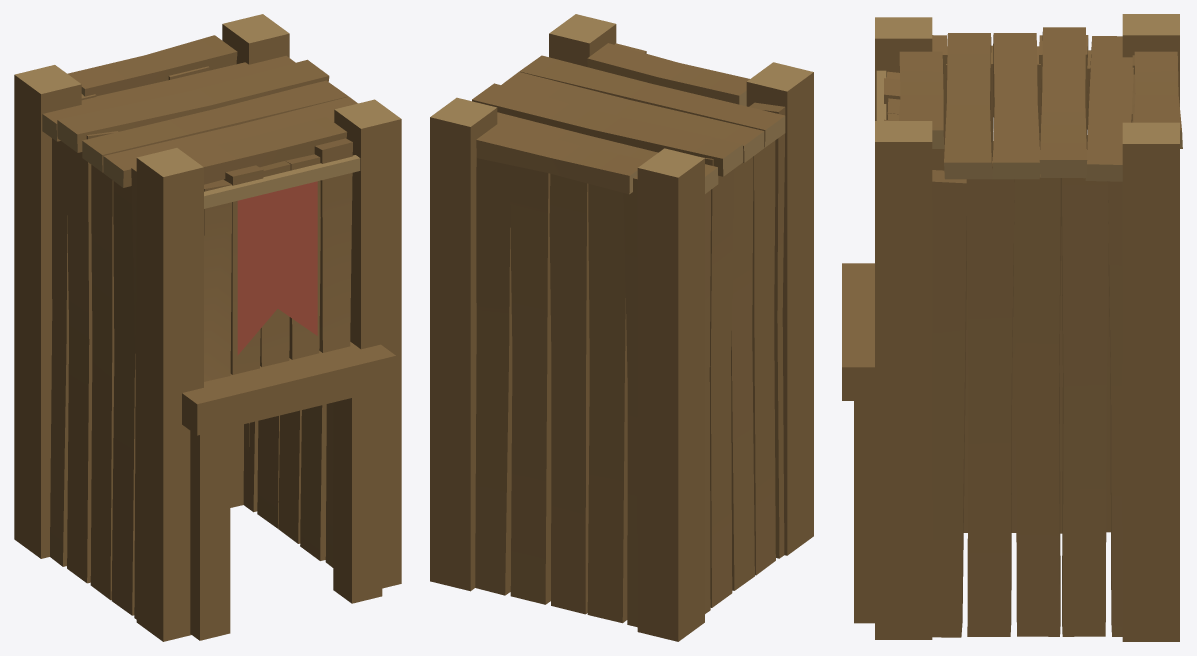
File: Small Watch Tower.glb
The picture shows the model from 3 angles, left to right: view 1: azimuth 30°, elevation 25°; view 2: azimuth 150°, elevation 25°; view 3: azimuth 270°, elevation 25°; orthographic projection. The views are drawn at different scales.
Visible parts, largest first — view 1: Small Watch Tower; view 2: Small Watch Tower; view 3: Small Watch Tower.
Boxes of the visible parts, <box> form: Small Watch Tower: <box>14,14,401,641</box>; Small Watch Tower: <box>430,14,813,641</box>; Small Watch Tower: <box>842,14,1182,641</box>.
Size of the model in its own units: 0.473 by 0.8373 by 0.5193.
